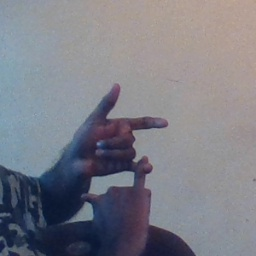S: (66, 81, 170, 235)
